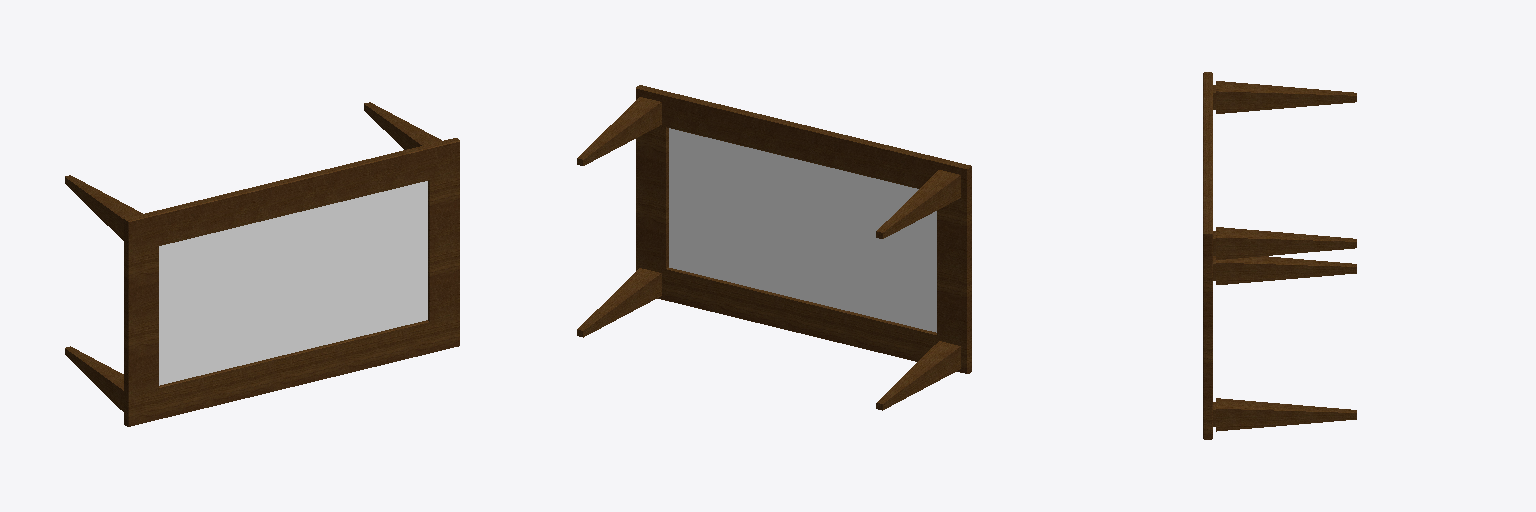
3 views of the same model, side by side, from view 1: azimuth 30°, elevation 25°; view 2: azimuth 150°, elevation 25°; view 3: azimuth 270°, elevation 25° (orthographic).
Visible parts, largest first — view 1: Box01, Rectangle3, Rectangle2, Rectangle4, Rectangle1; view 2: Box01, Rectangle3, Rectangle0, Rectangle1, Rectangle2, Rectangle4; view 3: Rectangle3, Rectangle2, Rectangle1, Rectangle0, Rectangle4.
Boxes of the visible parts, box(x1,y1,x2,y2) form: Box01: box(159, 181, 427, 385); Rectangle3: box(124, 138, 459, 426); Rectangle2: box(65, 175, 142, 240); Rectangle4: box(65, 346, 123, 411); Rectangle1: box(364, 102, 441, 149); Box01: box(669, 128, 936, 332); Rectangle3: box(636, 85, 971, 373); Rectangle0: box(577, 268, 661, 337); Rectangle1: box(577, 97, 661, 165); Rectangle2: box(876, 170, 960, 238); Rectangle4: box(876, 341, 960, 410); Rectangle3: box(1203, 72, 1212, 439); Rectangle2: box(1216, 81, 1356, 113); Rectangle1: box(1216, 227, 1356, 259); Rectangle0: box(1216, 398, 1356, 431); Rectangle4: box(1216, 256, 1356, 284).
Size of the model in its own units: 1224 by 724 by 490.
Materials: 2 (1 with a texture image).